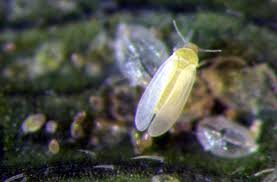Tobacco Whitefly: (129, 35, 209, 145)
